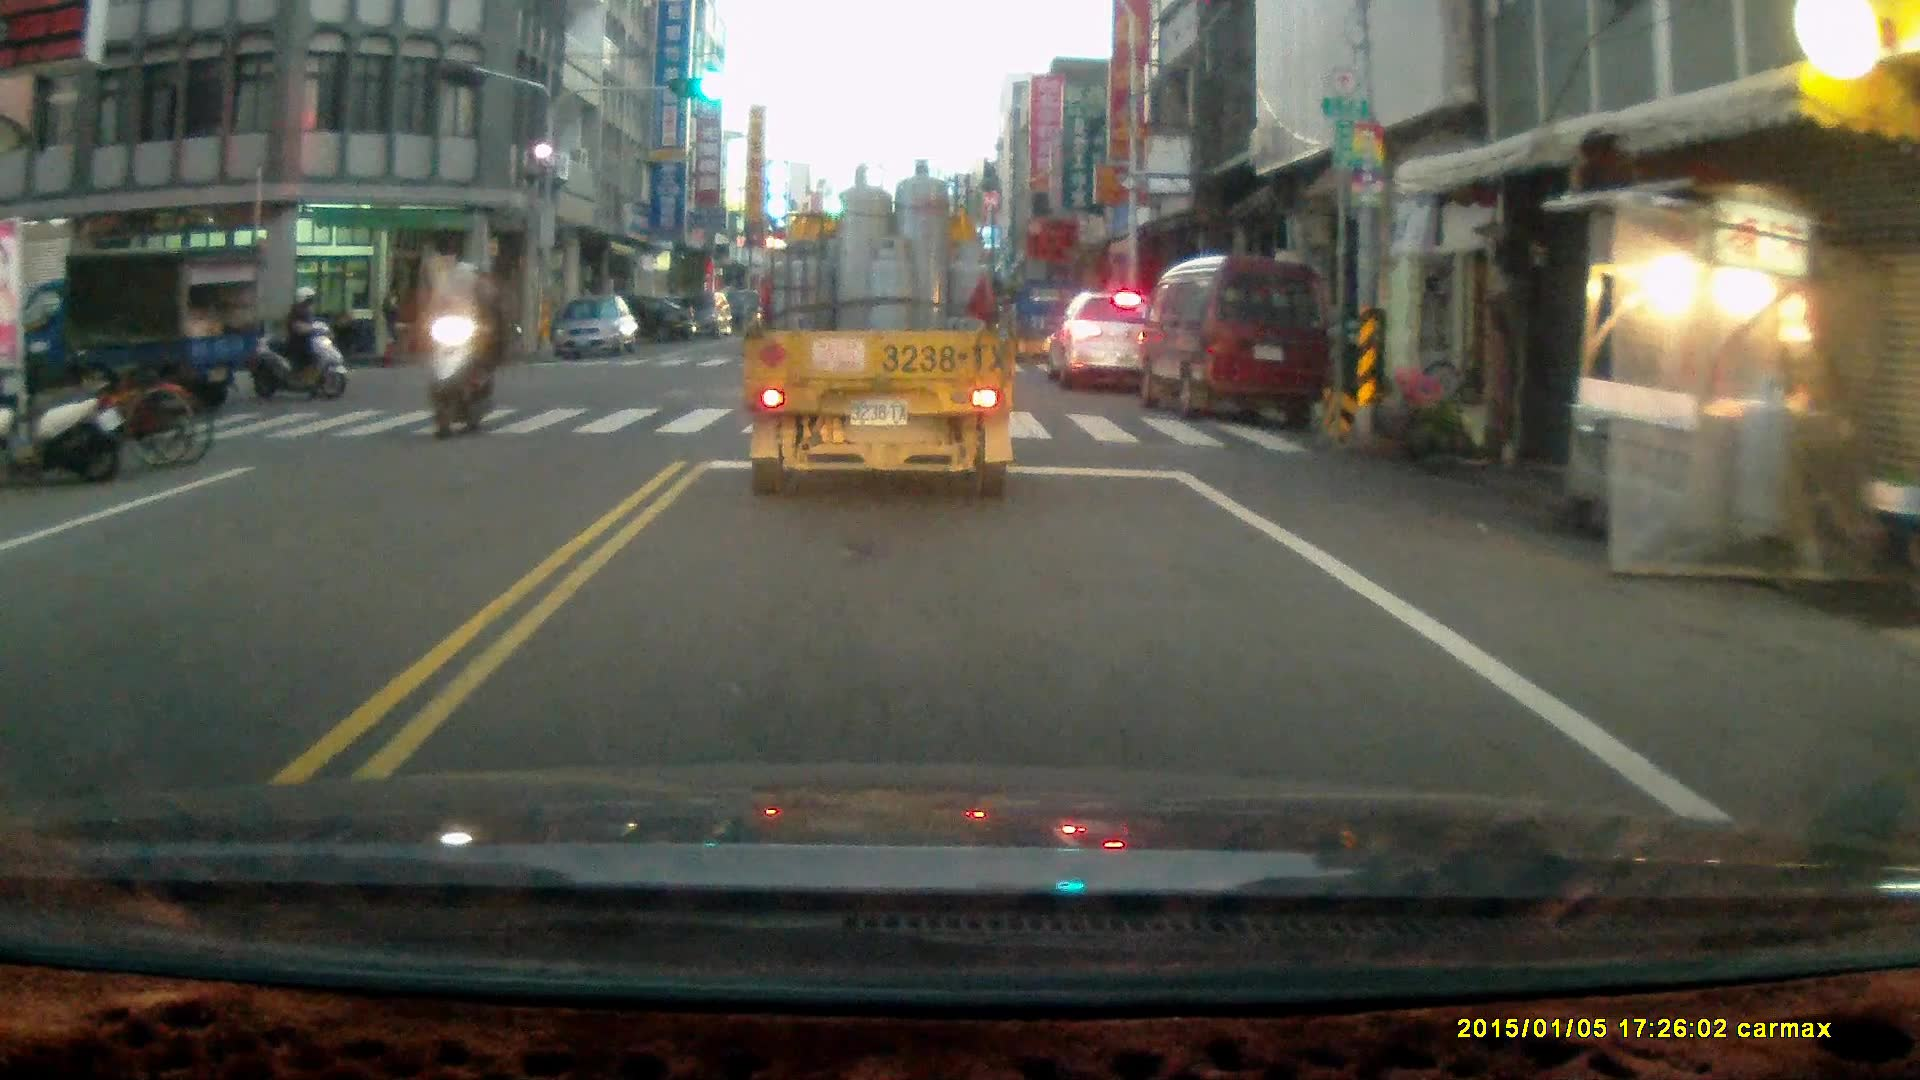pedestrian: (379, 280, 411, 361)
rider: (420, 257, 505, 435), (248, 283, 347, 400)
vehicle: (744, 168, 1019, 507), (20, 247, 254, 421), (1136, 260, 1333, 426), (1043, 290, 1166, 396), (575, 299, 696, 357), (551, 295, 641, 359), (645, 290, 729, 338)
